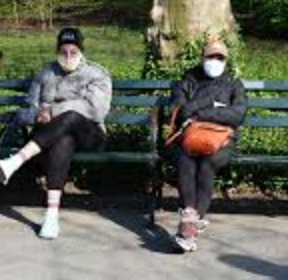Caution: (26, 24, 248, 178)
